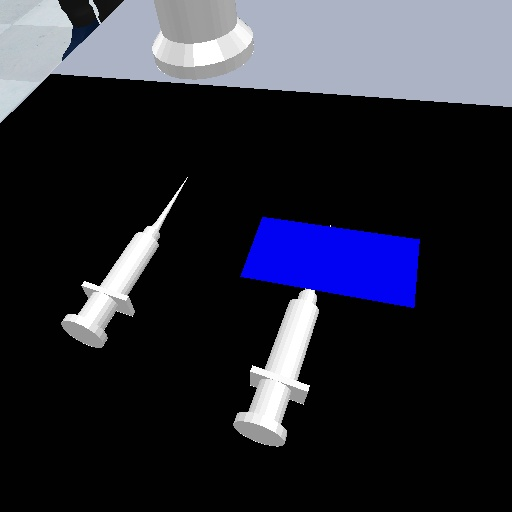jeringuilla: (58, 165, 191, 352)
